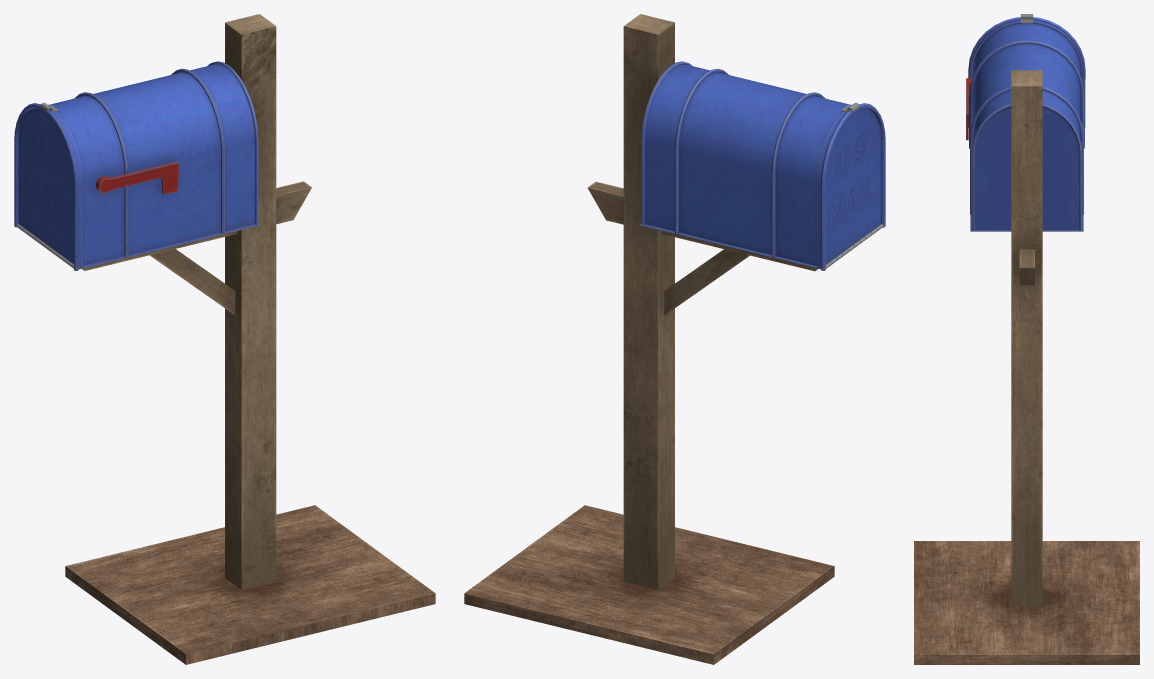
Rendered from mailbox_post.glb.
3 renders of one model, left to right at view 1: azimuth 30°, elevation 25°; view 2: azimuth 150°, elevation 25°; view 3: azimuth 270°, elevation 25°, orthographic. The views are drawn at different scales.
Visible parts, largest first — view 1: dock; view 2: dock; view 3: dock.
Part boxes in pixels (x1,y1,x2,y2): dock: [14, 14, 435, 664]; dock: [464, 14, 885, 664]; dock: [914, 14, 1139, 664].
Size of the model in its own units: 0.7067 by 1.15 by 0.4454.
1 material, 1 textured.
